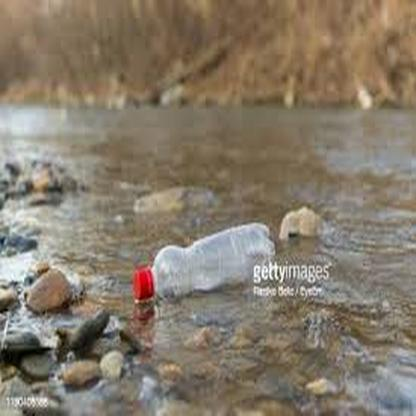plastic bottle: (133, 222, 277, 297)
